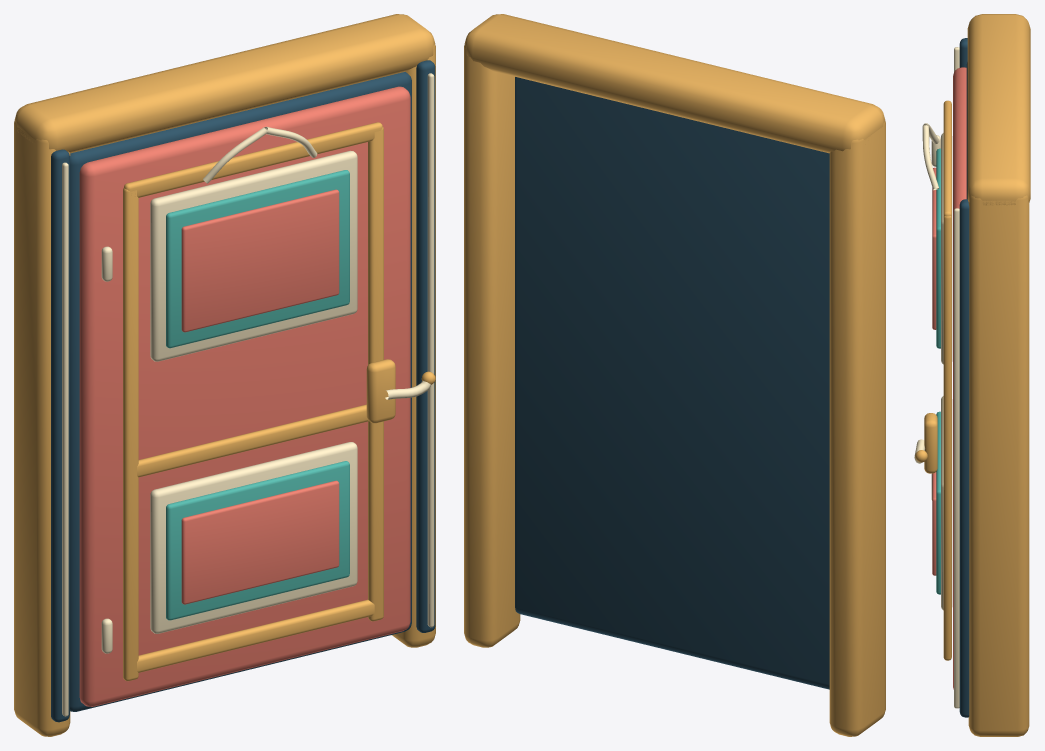
The model's file is hotelDoor.glb.
The picture shows the model from 3 angles, left to right: view 1: azimuth 30°, elevation 25°; view 2: azimuth 150°, elevation 25°; view 3: azimuth 270°, elevation 25°; orthographic projection. The views are drawn at different scales.
Parts seen in each view (by area): view 1: hotelDoor Bellmare coral door, hotelDoor Bellmare door brass, hotelDoor Bellmare door champagne, hotelDoor Bellmare door shadow, hotelDoor Bellmare sea-glass door inset; view 2: hotelDoor Bellmare door shadow, hotelDoor Bellmare door brass; view 3: hotelDoor Bellmare door brass, hotelDoor Bellmare door shadow, hotelDoor Bellmare door champagne, hotelDoor Bellmare coral door, hotelDoor Bellmare sea-glass door inset.
Boxes of the visible parts, x1,y1,x2,y2 form: hotelDoor Bellmare coral door: (79,86,410,706); hotelDoor Bellmare door brass: (14,14,435,736); hotelDoor Bellmare door champagne: (62,73,434,716); hotelDoor Bellmare door shadow: (51,60,435,722); hotelDoor Bellmare sea-glass door inset: (166,170,349,620); hotelDoor Bellmare door shadow: (515,77,829,689); hotelDoor Bellmare door brass: (464,14,885,736); hotelDoor Bellmare door brass: (915,14,1030,736); hotelDoor Bellmare door shadow: (959,38,969,717); hotelDoor Bellmare door champagne: (914,47,959,708); hotelDoor Bellmare coral door: (932,67,966,689); hotelDoor Bellmare sea-glass door inset: (936,148,940,594).
Size of the model in its own units: 1.98 by 2.93 by 0.5538.
